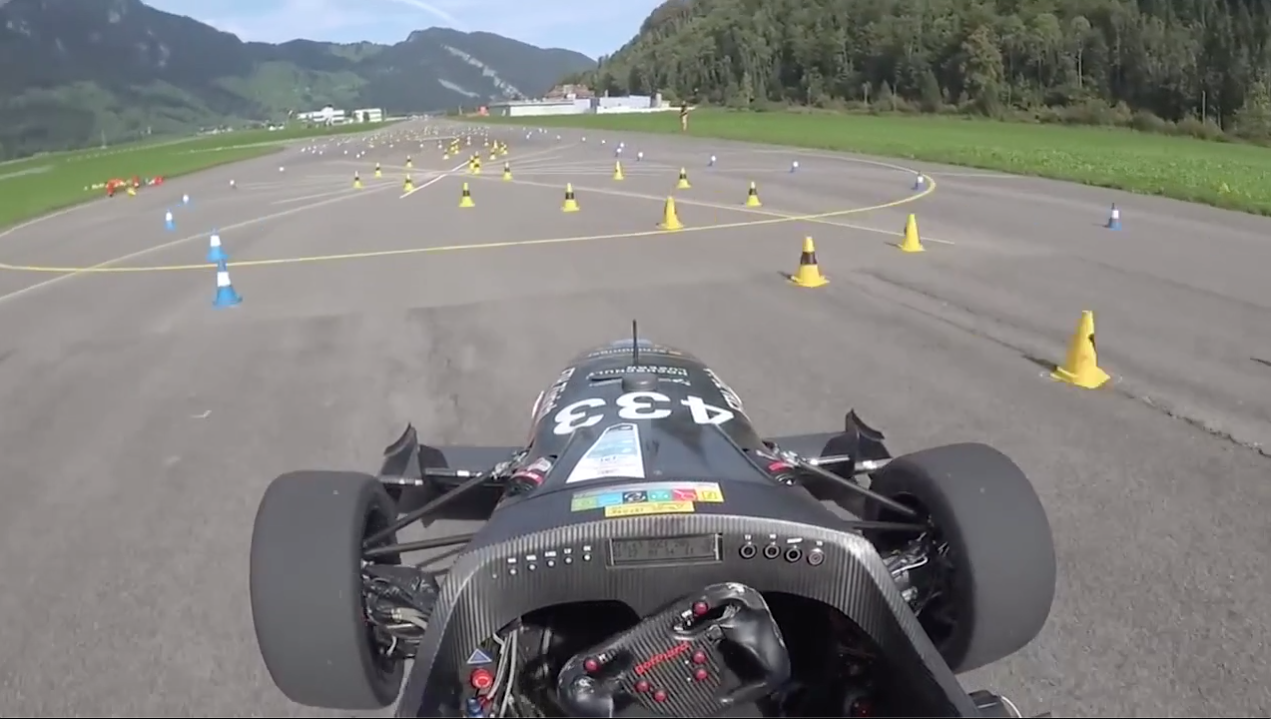lcone: (206, 257, 244, 312), (199, 220, 230, 267)
rcone: (1045, 305, 1114, 394), (781, 232, 830, 290), (892, 212, 928, 255), (658, 193, 687, 232), (554, 178, 585, 214), (740, 179, 766, 211)
